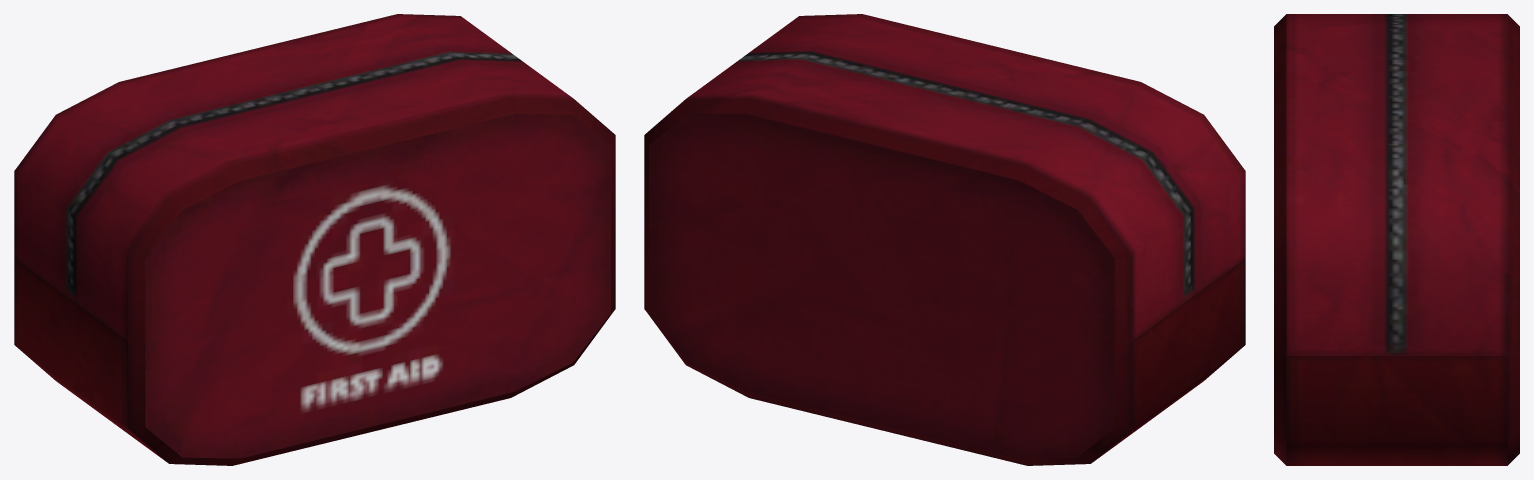
The model's file is clo_medical_kit.fbx.
The picture shows the model from 3 angles, left to right: view 1: azimuth 30°, elevation 25°; view 2: azimuth 150°, elevation 25°; view 3: azimuth 270°, elevation 25°; orthographic projection. The views are drawn at different scales.
Parts seen in each view (by area): view 1: health_l0; view 2: health_l0; view 3: health_l0.
Boxes of the visible parts, x1=… form: health_l0: x1=14, y1=14, x2=615, y2=465; health_l0: x1=644, y1=14, x2=1245, y2=465; health_l0: x1=1274, y1=14, x2=1519, y2=465.
Size of the model in its own units: 26.41 by 15.58 by 11.83.
